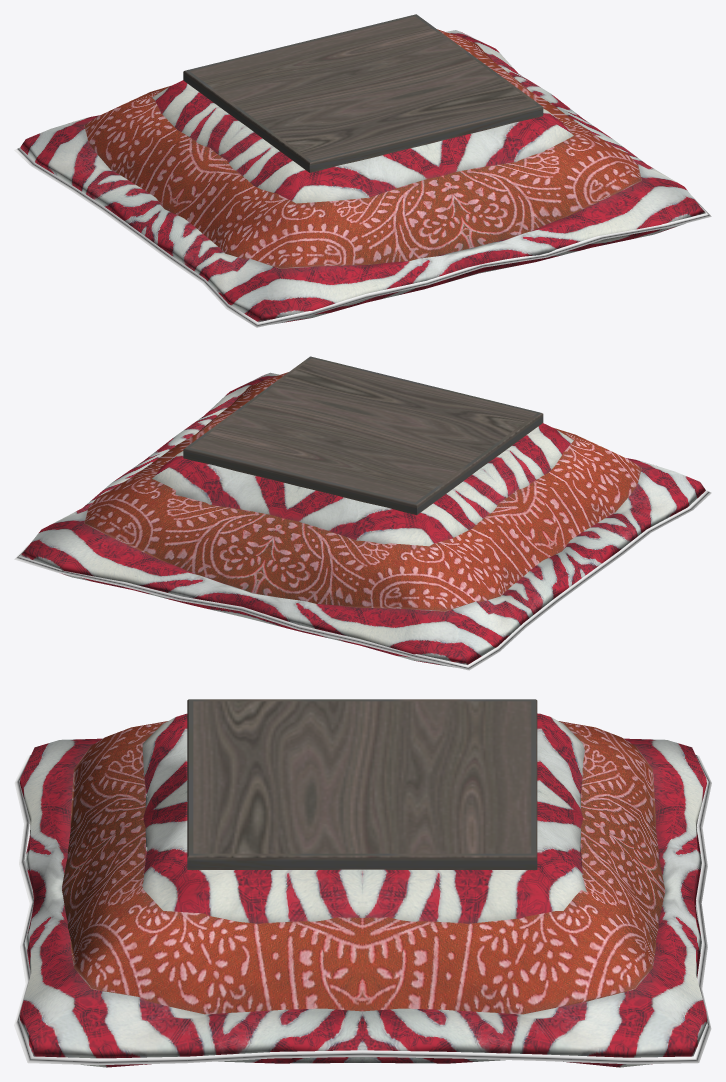
Rendered from Kotatsu01.fbx.
3 renders of one model, top to bottom at view 1: azimuth 30°, elevation 25°; view 2: azimuth 150°, elevation 25°; view 3: azimuth 270°, elevation 25°, orthographic. The views are drawn at different scales.
Parts seen in each view (by area): view 1: Kotatsu01; view 2: Kotatsu01; view 3: Kotatsu01.
Boxes of the visible parts, bbox=[...] form: Kotatsu01: bbox=[14, 14, 711, 327]; Kotatsu01: bbox=[14, 356, 711, 670]; Kotatsu01: bbox=[14, 699, 711, 1067].
Bounding box in the file's own units: 204 × 42.87 × 191.
1 material, 1 textured.
